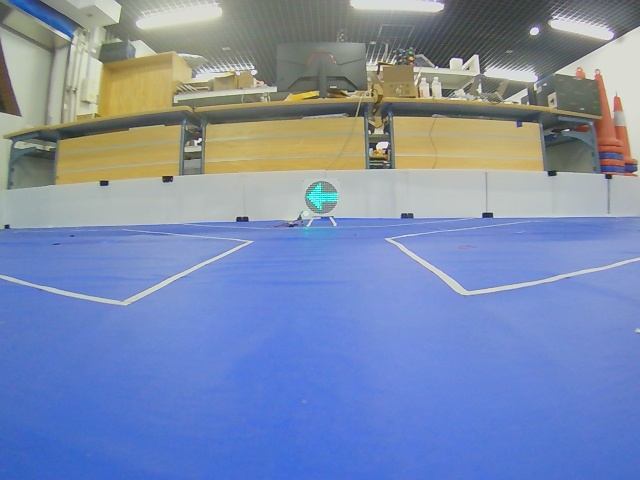left_green: (305, 181, 339, 214)
